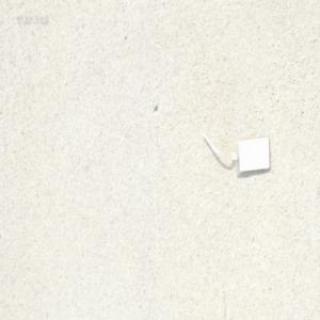LuggageTagtrack_idkeyframe: (195, 128, 269, 176)
